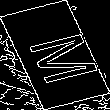M_E: (12, 25, 98, 85)
